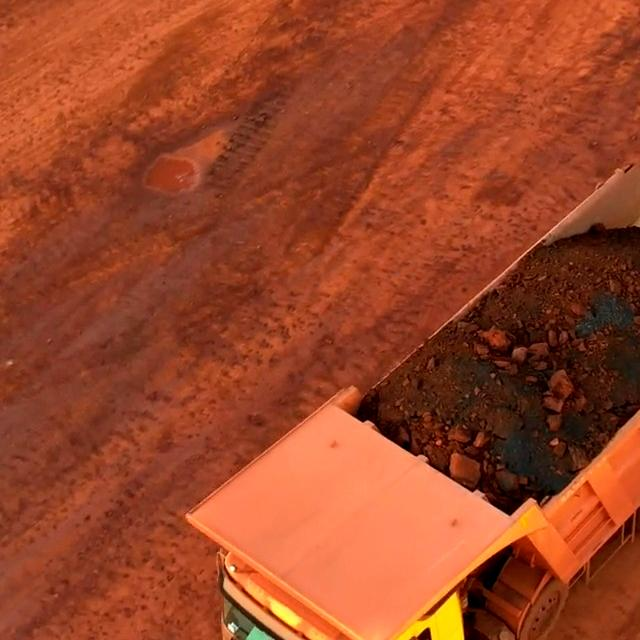Dumper truck: (218, 467, 453, 640)
